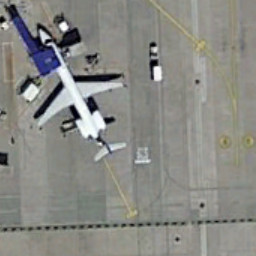Airplane: (21, 18, 142, 167)
